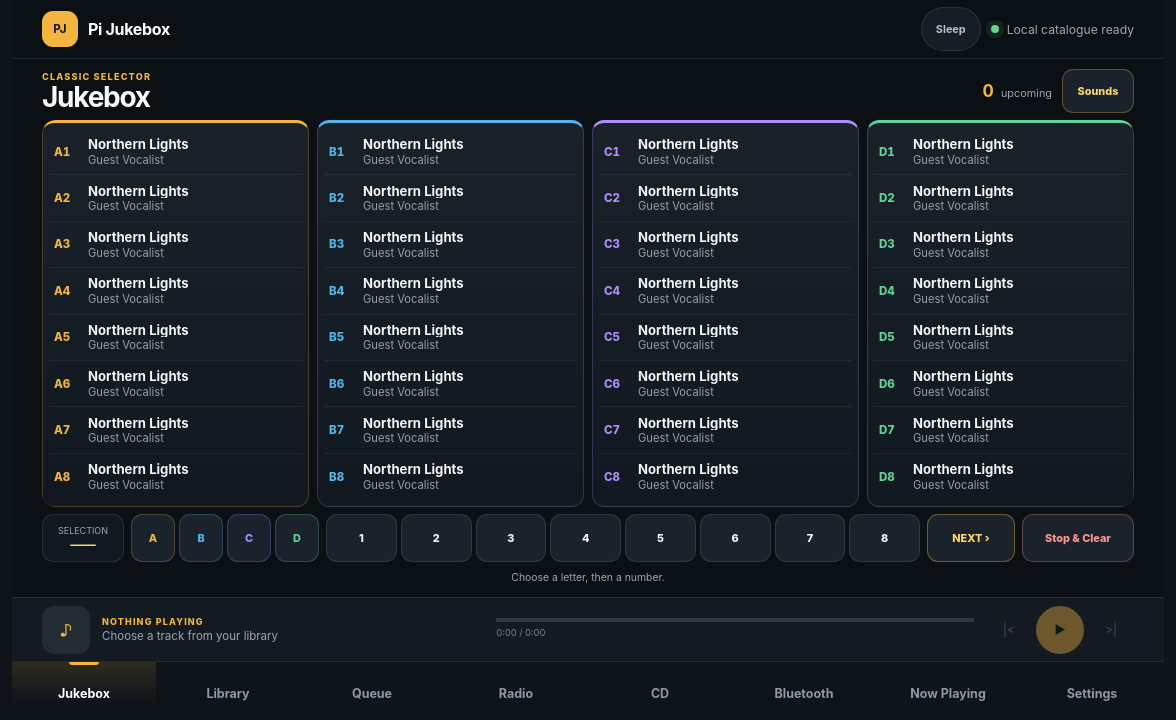
App catalogue interface › handles invalid CD status without breaking existing playback screens
The image size is (1176, 720).
Expected: the heading "Jukebox" is shown, [42,83,151,111]
What coordinates should you click on to do the following:
click the button "CD"
I would click on:
 (660, 691)
Its box is [588,662,732,719].
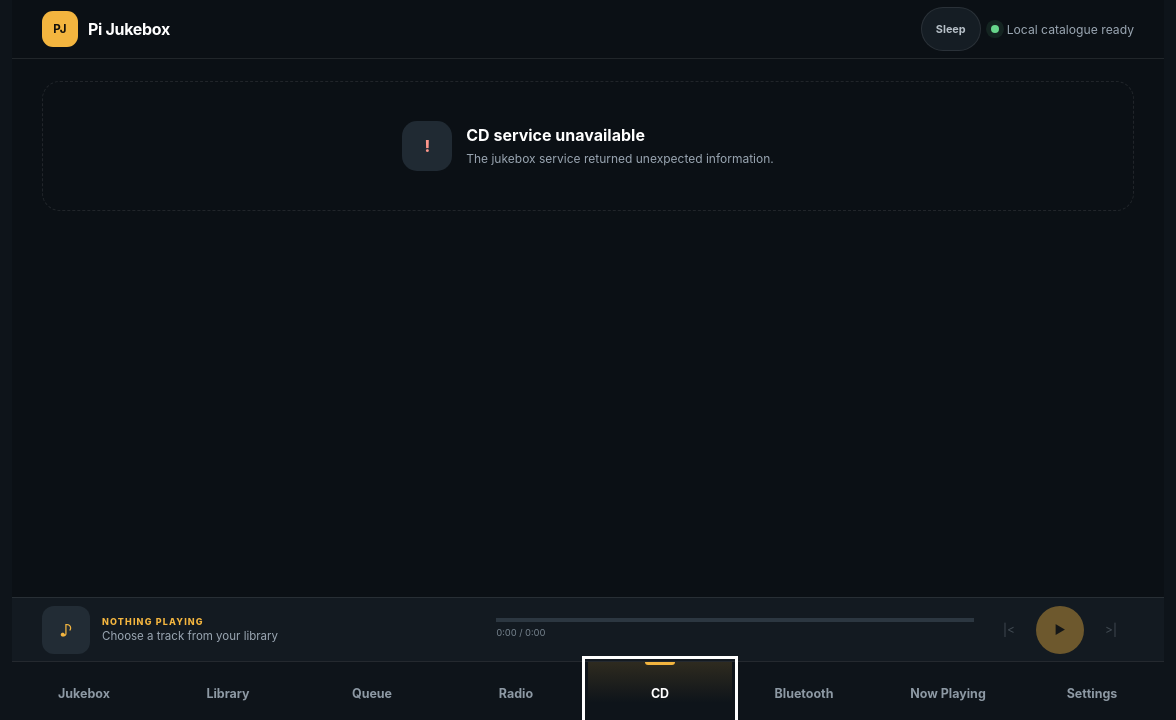
Expected: the element named "Mini player" is shown, [12,597,1164,661]
Now the heading "CD service unavailable" is shown, box [466,125,645,145]
Now the text "The jukebox service returned unexpected information." is shown, box [466,150,774,167]
